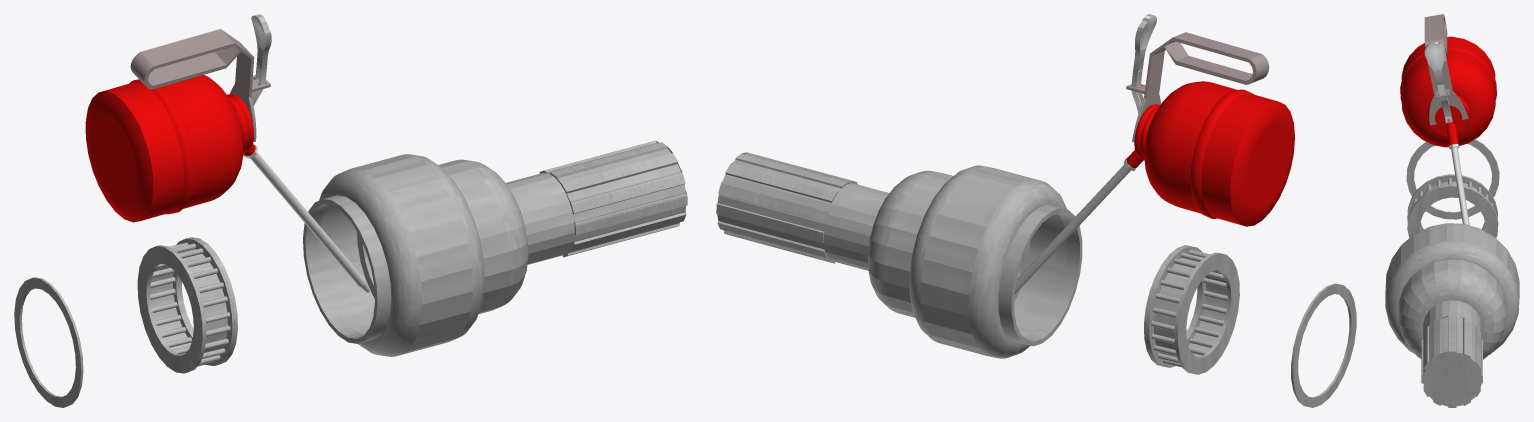
3 renders of one model, left to right at view 1: azimuth 30°, elevation 25°; view 2: azimuth 150°, elevation 25°; view 3: azimuth 270°, elevation 25°, orthographic. The views are drawn at different scales.
Visible parts, largest first — view 1: 1.003, Oiler, 1, 1.001; view 2: 1.003, Oiler, 1, 1.001; view 3: 1.003, Oiler, 1, 1.001.
Part boxes in pixels (<box>): 1.003: <box>303,140,687,356</box>; Oiler: <box>85,14,370,292</box>; 1: <box>137,237,237,373</box>; 1.001: <box>14,277,83,407</box>; 1.003: <box>716,152,1082,358</box>; Oiler: <box>1014,14,1294,294</box>; 1: <box>1144,245,1239,374</box>; 1.001: <box>1291,283,1356,407</box>; 1.003: <box>1385,223,1519,407</box>; Oiler: <box>1400,14,1496,225</box>; 1: <box>1407,174,1498,237</box>; 1.001: <box>1406,139,1499,219</box>.
Size of the model in its own units: 567 by 328 by 153.
Materials: 8 (5 with a texture image).
